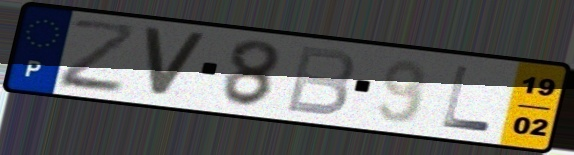8: (220, 38, 284, 110)
9: (375, 56, 434, 126)
B: (282, 43, 359, 119)
L: (439, 64, 496, 135)
V: (139, 24, 211, 102)
Z: (56, 17, 141, 96)
